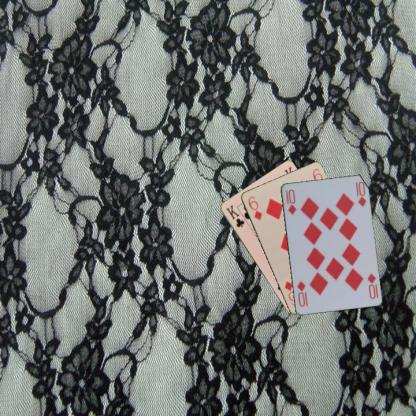10d: (283, 186, 298, 216), (365, 270, 379, 300)
6d: (245, 193, 263, 221)
Kc: (223, 202, 246, 228)
